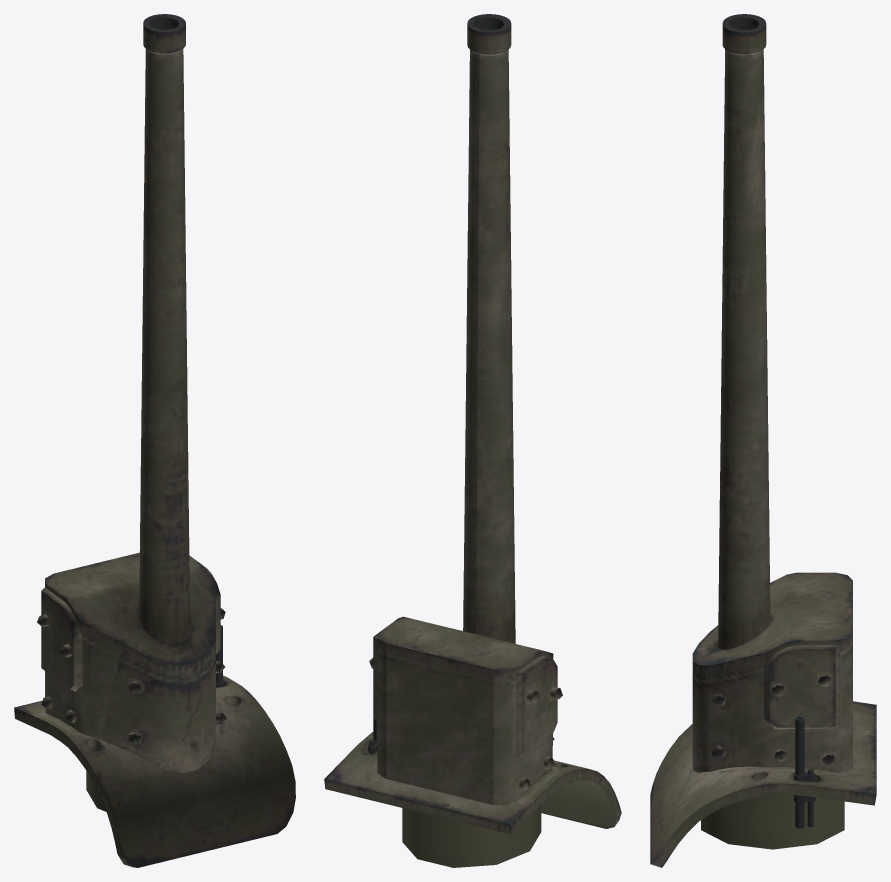
Rendered from Gun_01.glb.
The picture shows the model from 3 angles, left to right: view 1: azimuth 30°, elevation 25°; view 2: azimuth 150°, elevation 25°; view 3: azimuth 270°, elevation 25°; orthographic projection. The views are drawn at different scales.
Parts seen in each view (by area): view 1: set_0_group_0; view 2: set_0_group_0; view 3: set_0_group_0.
Boxes of the visible parts, x1=… form: set_0_group_0: x1=14, y1=14, x2=295, y2=867; set_0_group_0: x1=324, y1=14, x2=621, y2=867; set_0_group_0: x1=650, y1=14, x2=876, y2=867.
Size of the model in its own units: 0.5539 by 2.29 by 0.5794.
Materials: 1 (1 with a texture image).
